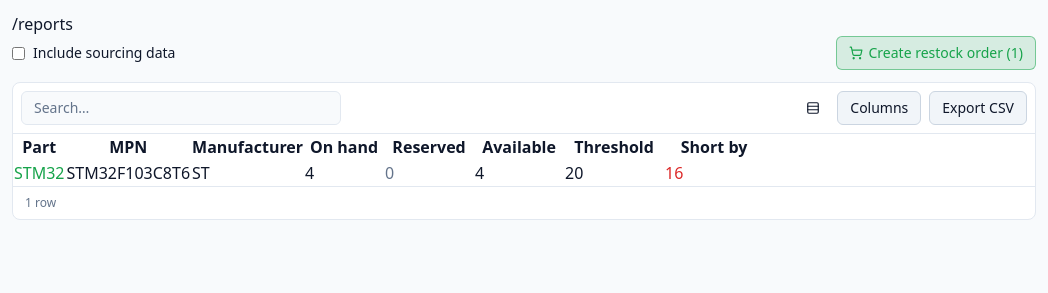
Scenario: LowStockReport › toggling include sourcing reflects in URL
The image size is (1048, 293).
Expected: the link "STM32" is shown, [14,162,64,184]
Step 1. Click the checkbox labelled "Include sourcing data" → (18, 53), box [12,46,25,60]
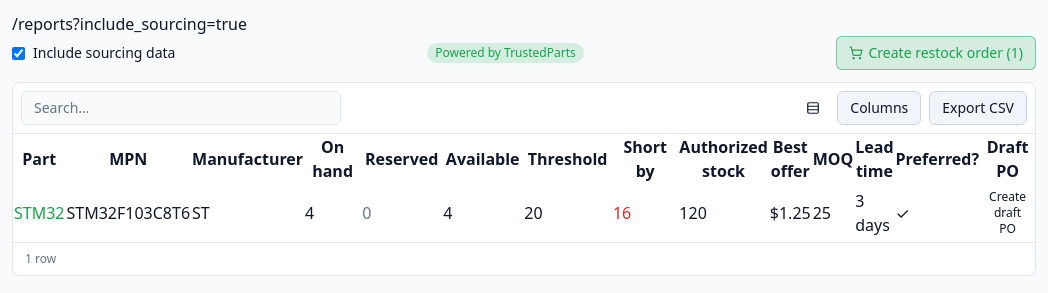
Expected: the text with test id "location" reads "/reports?include_sourcing=true", [12,13,247,35]
Expected: the text "Authorized stock" is shown 2 times
Expected: the link "Powered by TrustedParts" is shown, [427,43,584,63]
